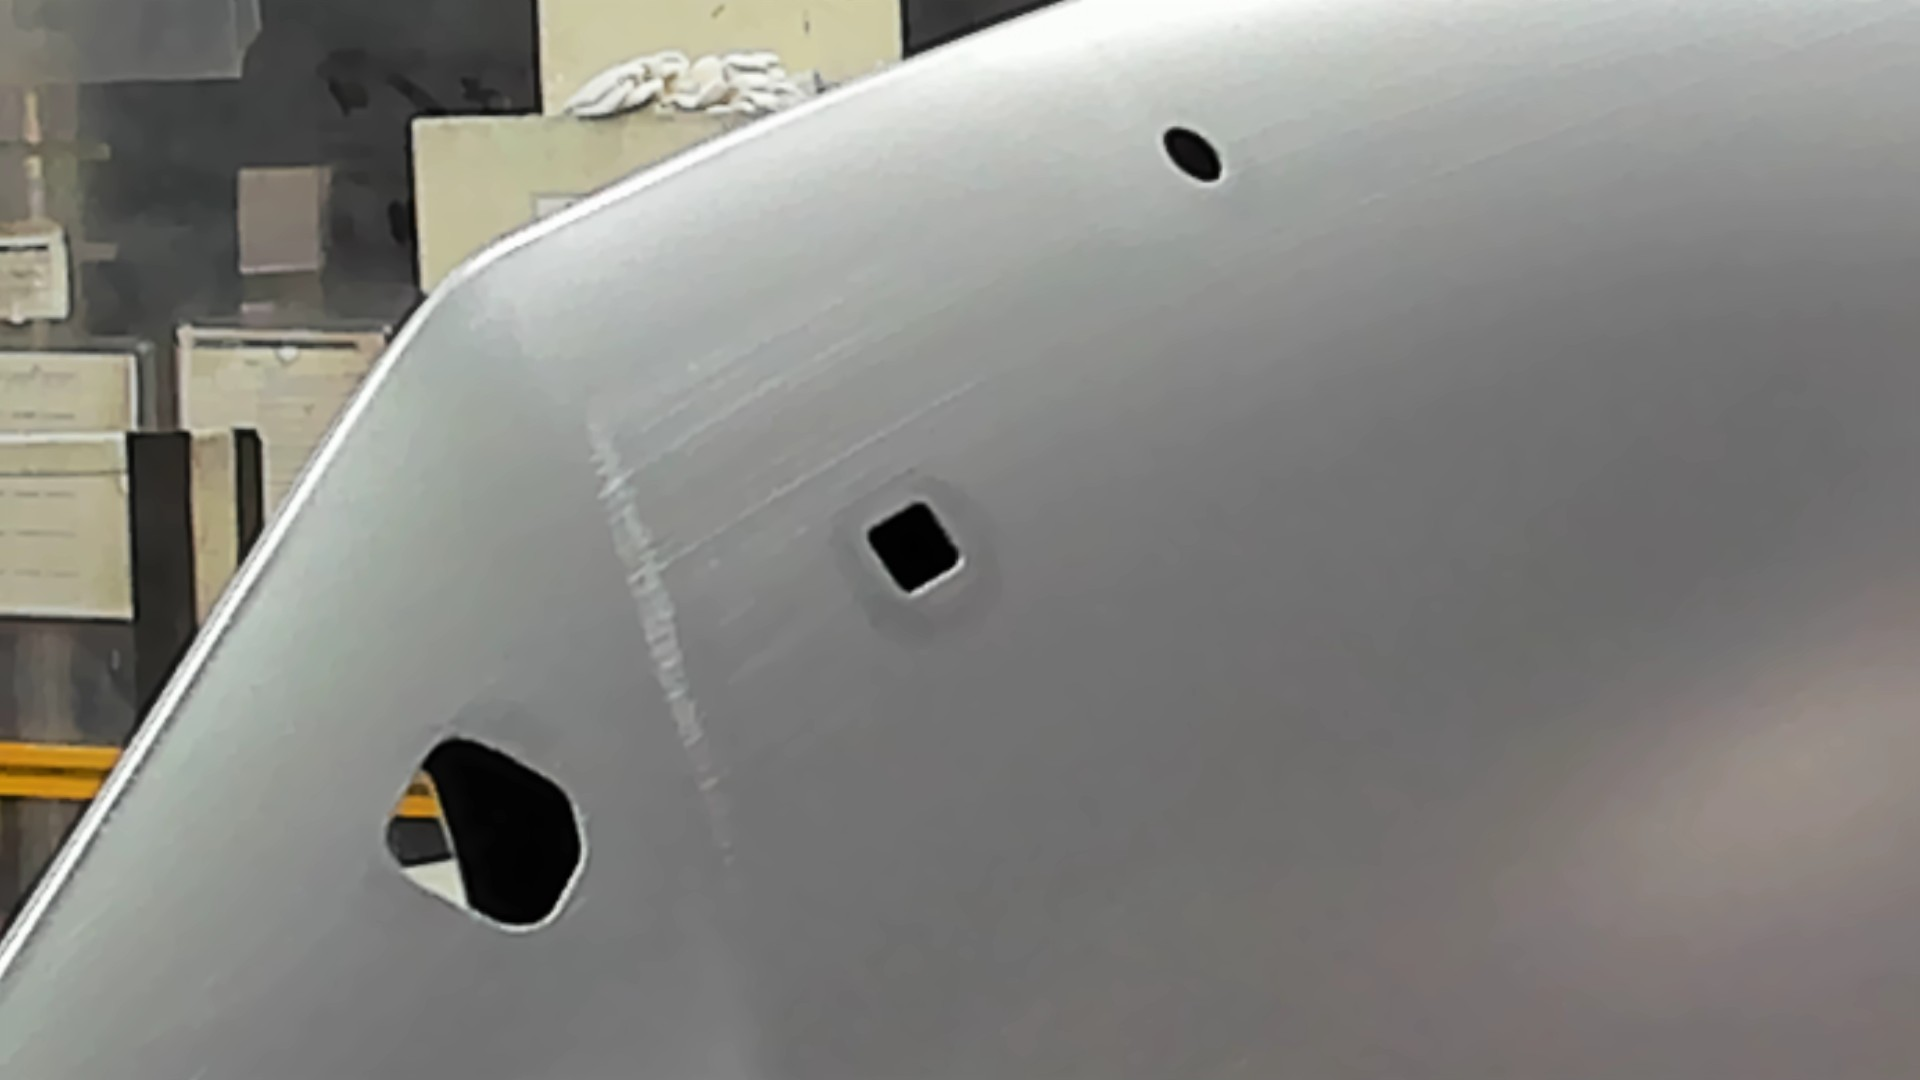capo: (975, 193, 1920, 1080)
chico: (1160, 123, 1226, 185)
grande: (377, 727, 593, 938)
mediano: (858, 495, 967, 603)
